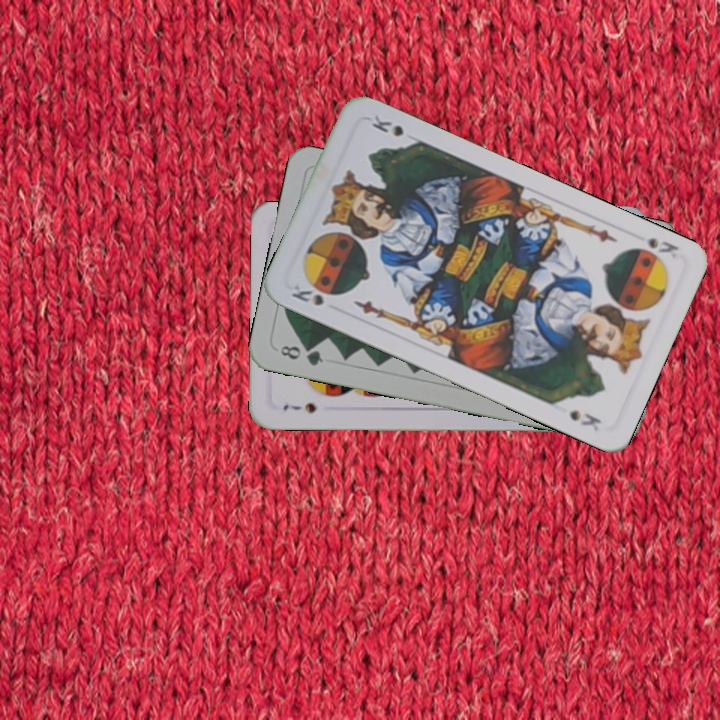G8: (276, 341, 326, 369)
S7: (279, 399, 319, 416)
SK: (287, 279, 326, 309), (644, 233, 682, 261)
